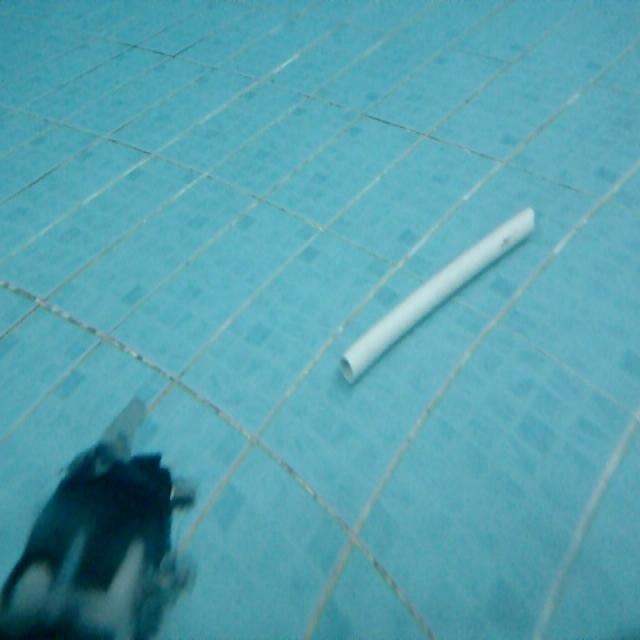Cube: (335, 200, 537, 387)
